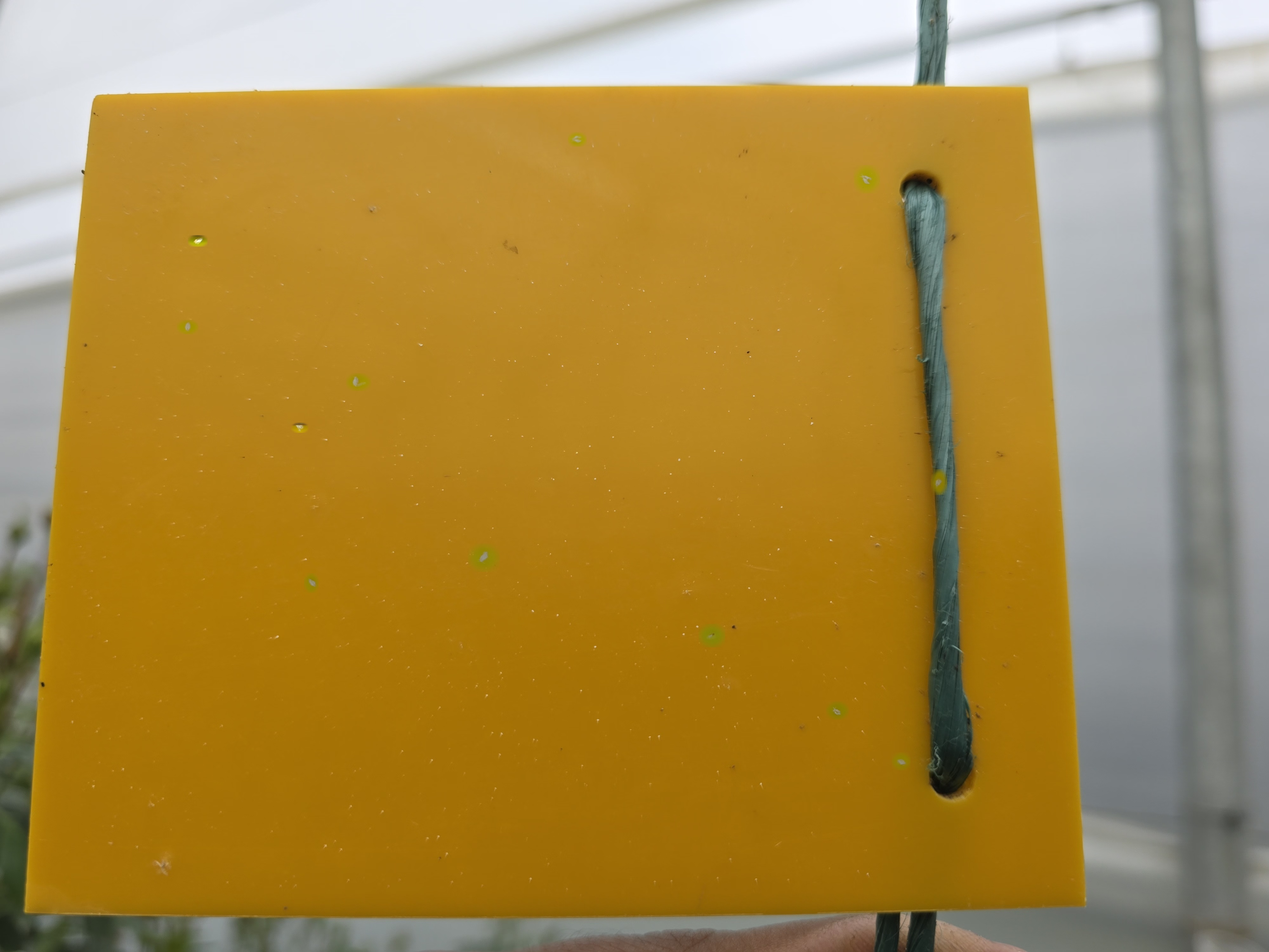WF: (473, 548, 495, 567), (858, 169, 876, 189), (702, 627, 721, 644), (933, 473, 945, 491), (829, 704, 845, 717), (350, 376, 367, 388), (894, 755, 908, 767), (180, 322, 195, 332), (306, 576, 316, 590), (570, 134, 584, 144), (191, 237, 204, 245), (294, 424, 306, 431), (417, 342, 425, 348)
